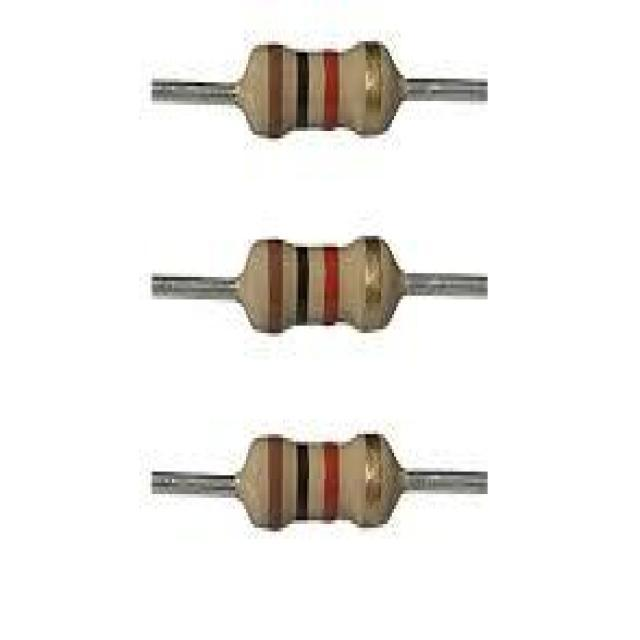Resistor Carbon-Film: (233, 235, 413, 340), (232, 35, 407, 142), (238, 433, 410, 532)
